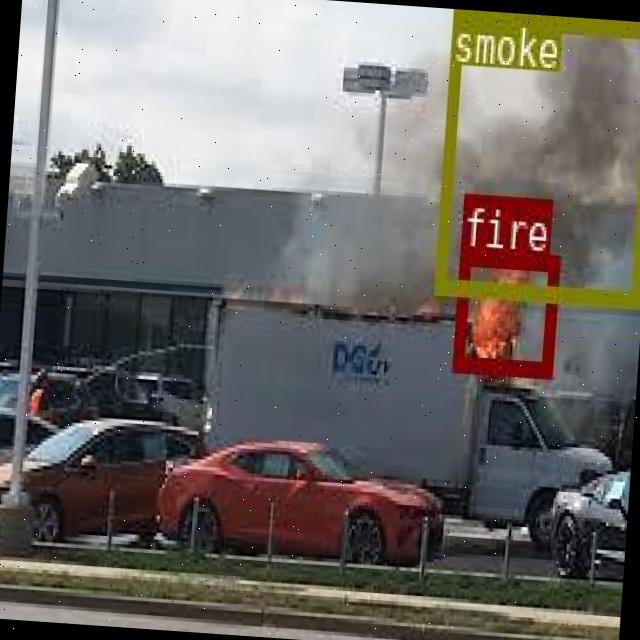fire: (451, 247, 557, 376)
smoke: (431, 8, 640, 306)
